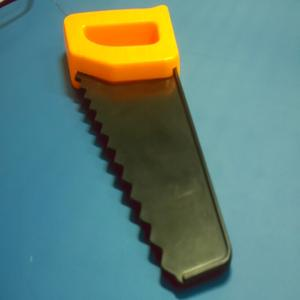serrote: (63, 4, 233, 291)
